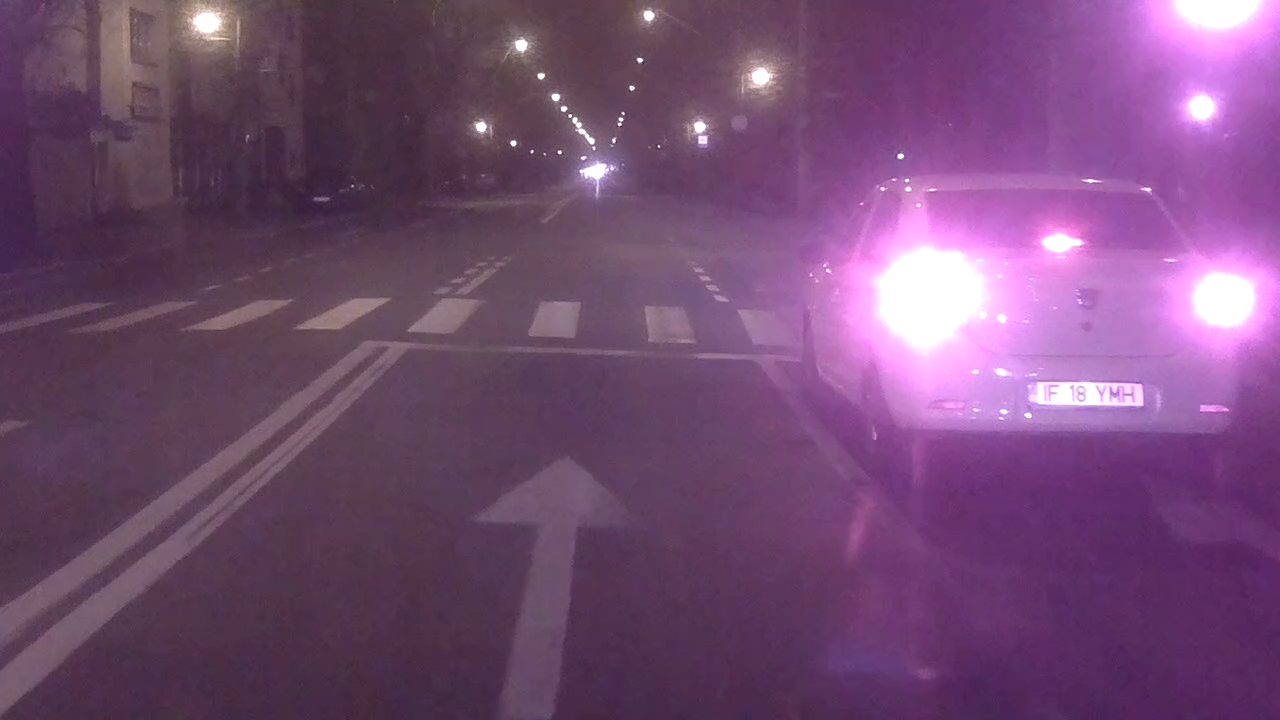license-plate: (1021, 376, 1149, 413)
